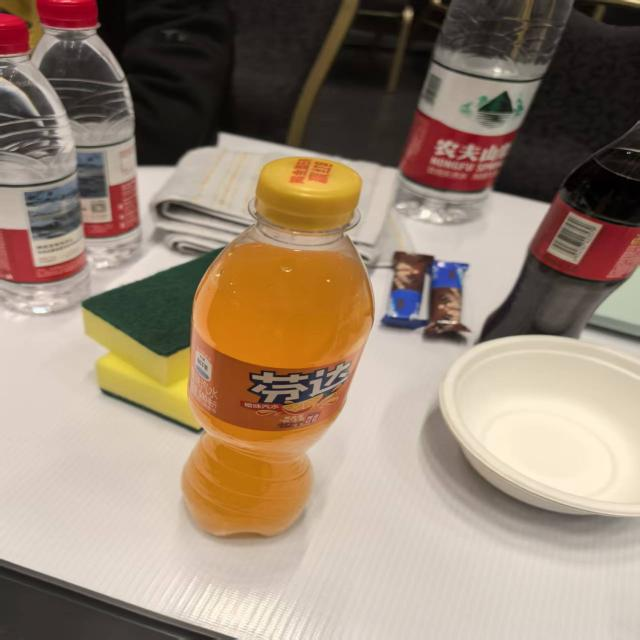orange: (238, 363, 362, 420)
